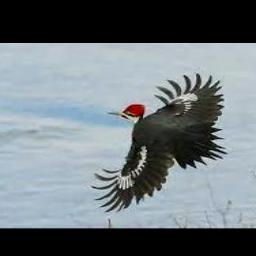Woodpecker: (90, 72, 227, 212)
